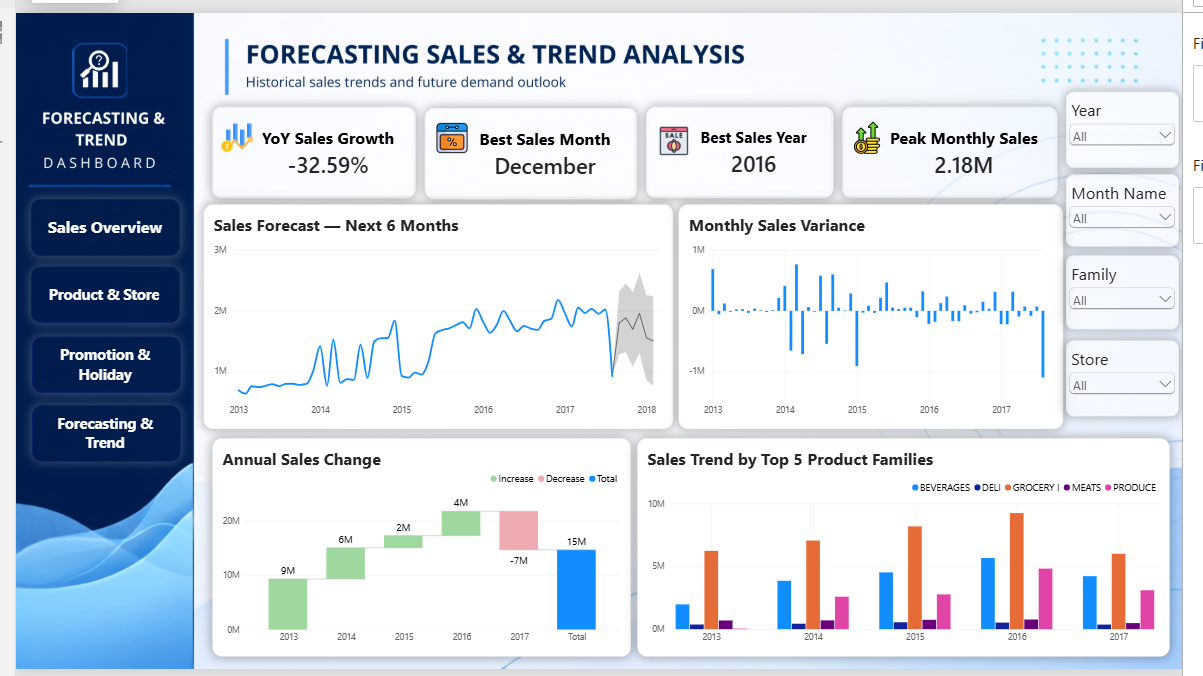

This screenshot's page, from the dashboard's own definition file:
{"tool":"powerbi","page":{"name":"Forecasting & Trend Analysis ","canvas":[1920,1080],"ordinal":3},"visuals":[{"type":"image","box":[96.7,59.7,80,65],"z":0},{"type":"cardVisual","fields":{"Data":["Sales_Cleaned_Final.YoY Sales Growth %"]},"box":[323.2,154.4,335.5,150.3],"z":1000},{"type":"cardVisual","fields":{"Data":["Sales_Cleaned_Final.Best Sales Month"]},"box":[673.1,156.4,349.9,150.3],"z":2000},{"type":"cardVisual","fields":{"Data":["Sales_Cleaned_Final.Best Sales Year"]},"box":[1037.4,154.4,308.7,150.3],"z":3000},{"type":"cardVisual","fields":{"Data":["Sales_Cleaned_Final.Peak Monthly Sales"]},"box":[1360.6,154.4,354,150.3],"z":4000},{"type":"image","box":[337.6,179.1,53,53],"z":5000},{"type":"image","box":[691.6,179.1,53,53.5],"z":6000},{"type":"image","box":[1051.8,179.1,63,63],"z":7000},{"type":"image","box":[1375,179.1,53,53],"z":8000},{"type":"waterfallChart","title":"Annual Sales Change","fields":{"Category":["Sales_Cleaned_Final.Year"],"Y":["Sales_Cleaned_Final.Yearly Sales Change"]},"box":[323.2,699.8,689.5,360.2],"z":9000},{"type":"lineChart","title":"Sales Forecast — Next 6 Months","fields":{"Y":["Sum(Sales_Cleaned_Final.sales)"],"Category":["Sales_Cleaned_Final.Month Start.Variation.Date Hierarchy.Year","Sales_Cleaned_Final.Month Start.Variation.Date Hierarchy.Month"]},"box":[308.7,314.9,773.9,370.5],"z":10000},{"type":"clusteredColumnChart","title":"Sales Trend by Top 5 Product Families","fields":{"Y":["Sum(Sales_Cleaned_Final.sales)"],"Series":["Sales_Cleaned_Final.family"],"Category":["Sales_Cleaned_Final.Year"]},"box":[1023,699.8,876.8,360.2],"z":11000},{"type":"clusteredColumnChart","title":"Monthly Sales Variance","fields":{"Y":["Sales_Cleaned_Final.Sales Variance"],"Category":["Sales_Cleaned_Final.Month Start"]},"box":[1090,314.9,634,370.5],"z":12000},{"type":"slicer","fields":{"Values":["Sales_Cleaned_Final.Year"]},"box":[1729,129.7,185.2,125.6],"z":13000},{"type":"slicer","fields":{"Values":["Sales_Cleaned_Final.Month Name"]},"box":[1729,266,185.2,119.4],"z":14000},{"type":"slicer","fields":{"Values":["Sales_Cleaned_Final.family"]},"box":[1729,399.3,185.2,121.4],"z":15000},{"type":"slicer","fields":{"Values":["Sales_Cleaned_Final.store_nbr"]},"box":[1729,539.3,185.2,125],"z":16000},{"type":"actionButton","box":[24.7,306,244.9,92.6],"z":17000},{"type":"actionButton","box":[24.7,418,244.9,92],"z":18000},{"type":"actionButton","box":[26.8,533,244,92],"z":19000},{"type":"actionButton","box":[26.8,646.3,244,92],"z":20000}]}

Visuals, with their boxes on the page's 1920x1080 design canvas (x1, y1, x2, y2). These are canvas units, not pixel positions in the 1203x676 screenshot, which may show the page scaled, cropped or inside an application window:
image: <bbox>97, 60, 177, 125</bbox>
cardVisual - Sales_Cleaned_Final.YoY Sales Growth %: <bbox>323, 154, 659, 305</bbox>
cardVisual - Sales_Cleaned_Final.Best Sales Month: <bbox>673, 156, 1023, 307</bbox>
cardVisual - Sales_Cleaned_Final.Best Sales Year: <bbox>1037, 154, 1346, 305</bbox>
cardVisual - Sales_Cleaned_Final.Peak Monthly Sales: <bbox>1361, 154, 1715, 305</bbox>
image: <bbox>338, 179, 391, 232</bbox>
image: <bbox>692, 179, 745, 233</bbox>
image: <bbox>1052, 179, 1115, 242</bbox>
image: <bbox>1375, 179, 1428, 232</bbox>
"Annual Sales Change" waterfallChart: <bbox>323, 700, 1013, 1060</bbox>
"Sales Forecast — Next 6 Months" lineChart: <bbox>309, 315, 1083, 685</bbox>
"Sales Trend by Top 5 Product Families" clusteredColumnChart: <bbox>1023, 700, 1900, 1060</bbox>
"Monthly Sales Variance" clusteredColumnChart: <bbox>1090, 315, 1724, 685</bbox>
slicer - Sales_Cleaned_Final.Year: <bbox>1729, 130, 1914, 255</bbox>
slicer - Sales_Cleaned_Final.Month Name: <bbox>1729, 266, 1914, 385</bbox>
slicer - Sales_Cleaned_Final.family: <bbox>1729, 399, 1914, 521</bbox>
slicer - Sales_Cleaned_Final.store_nbr: <bbox>1729, 539, 1914, 664</bbox>
actionButton: <bbox>25, 306, 270, 399</bbox>
actionButton: <bbox>25, 418, 270, 510</bbox>
actionButton: <bbox>27, 533, 271, 625</bbox>
actionButton: <bbox>27, 646, 271, 738</bbox>
